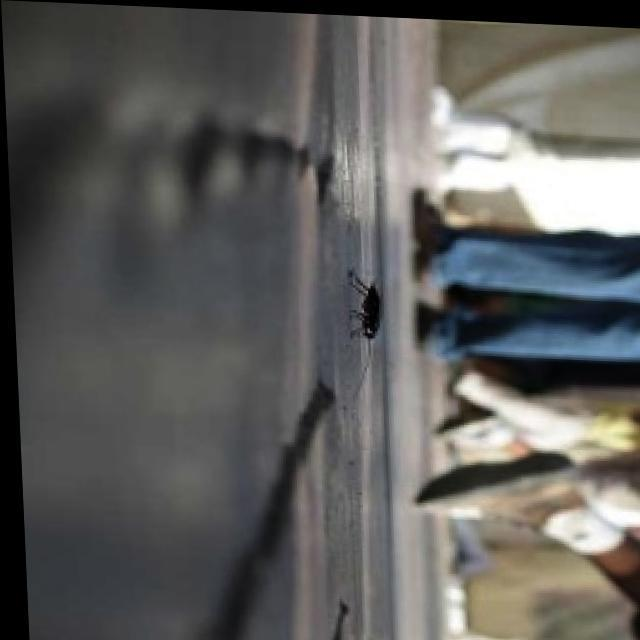cockroach: (342, 264, 386, 347)
